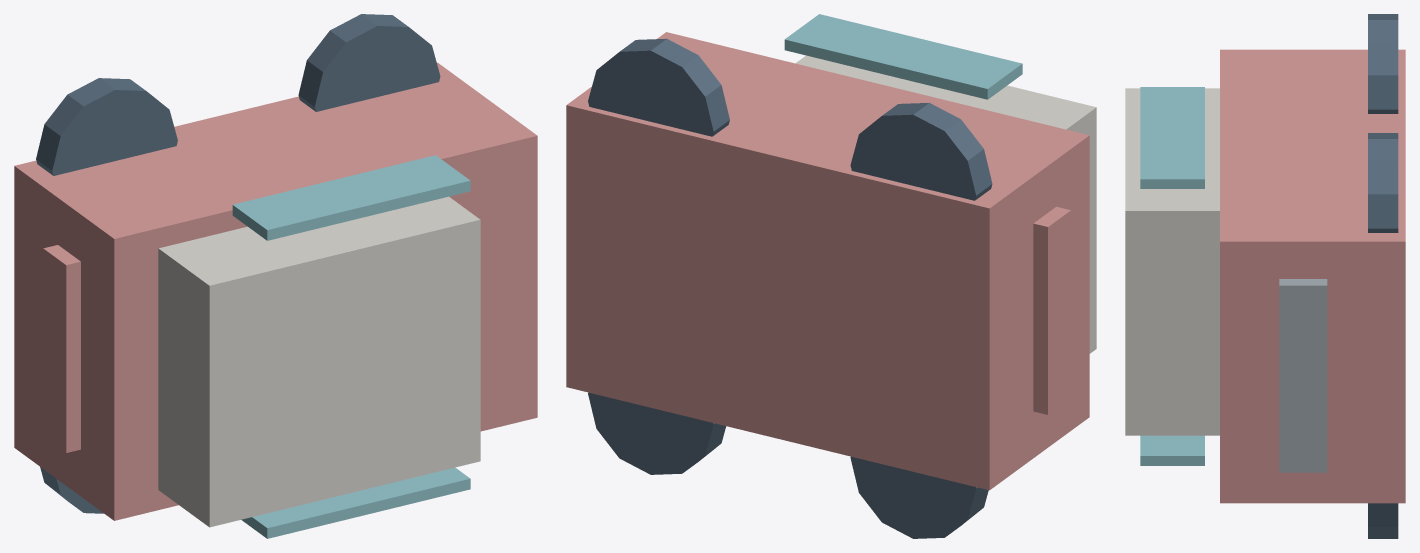
The model's file is pickup.glb.
3 views of the same model, side by side, from view 1: azimuth 30°, elevation 25°; view 2: azimuth 150°, elevation 25°; view 3: azimuth 270°, elevation 25° (orthographic). The views are drawn at different scales.
Parts seen in each view (by area): view 1: salmon, white, dark, glass; view 2: salmon, dark, glass, white; view 3: salmon, white, metal2, glass, dark.
Part boxes in pixels (x1,y1,x2,y2): salmon: (14,62,537,520); white: (158,196,480,527); dark: (36,14,440,513); glass: (232,155,470,538); salmon: (566,32,1089,490); dark: (588,38,992,538); glass: (784,14,1022,99); white: (795,55,1096,353); salmon: (1220,49,1405,503); white: (1125,88,1219,435); metal2: (1279,279,1327,472); glass: (1140,87,1204,465); dark: (1368,14,1398,538).
Bounding box in the file's own units: 3.53 × 3.16 × 2.04.
